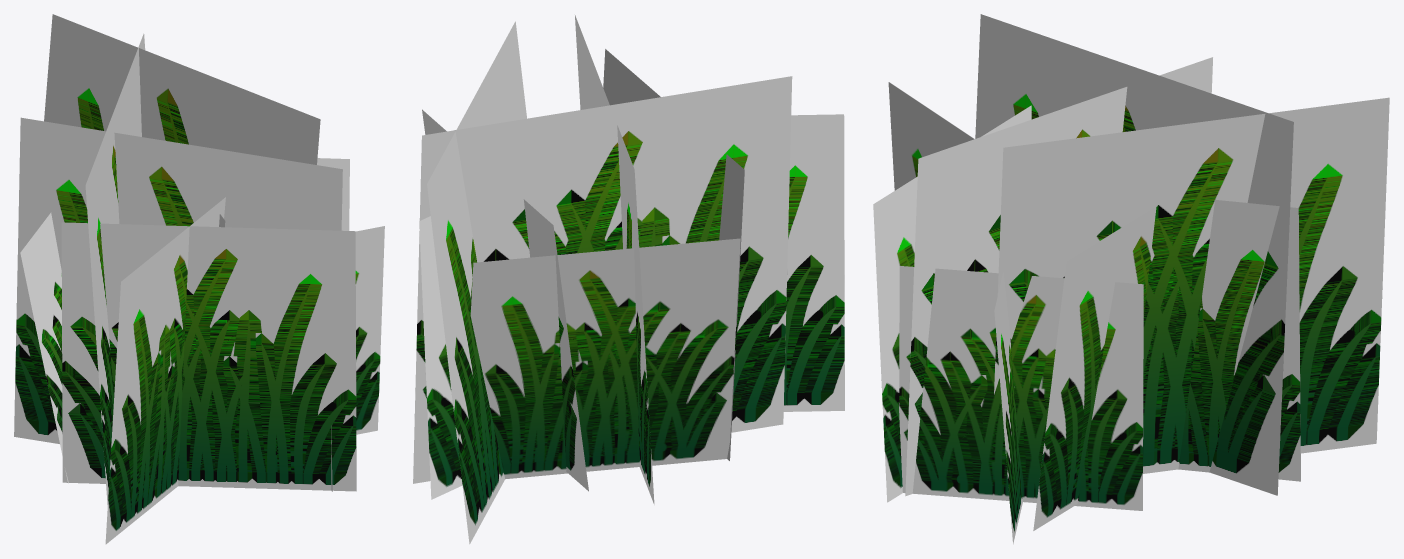
File: low_grass_08.gltf
3 renders of one model, left to right at view 1: azimuth 30°, elevation 25°; view 2: azimuth 150°, elevation 25°; view 3: azimuth 270°, elevation 25°, orthographic. The views are drawn at different scales.
Parts seen in each view (by area): view 1: default; view 2: default; view 3: default.
Boxes of the visible parts, x1,y1,x2,y2 form: default: (14,14,384,544); default: (413,15,844,544); default: (873,14,1389,544).
Bounding box in the file's own units: 0.8227 × 0.8109 × 1.04.
Materials: 1 (1 with a texture image).
